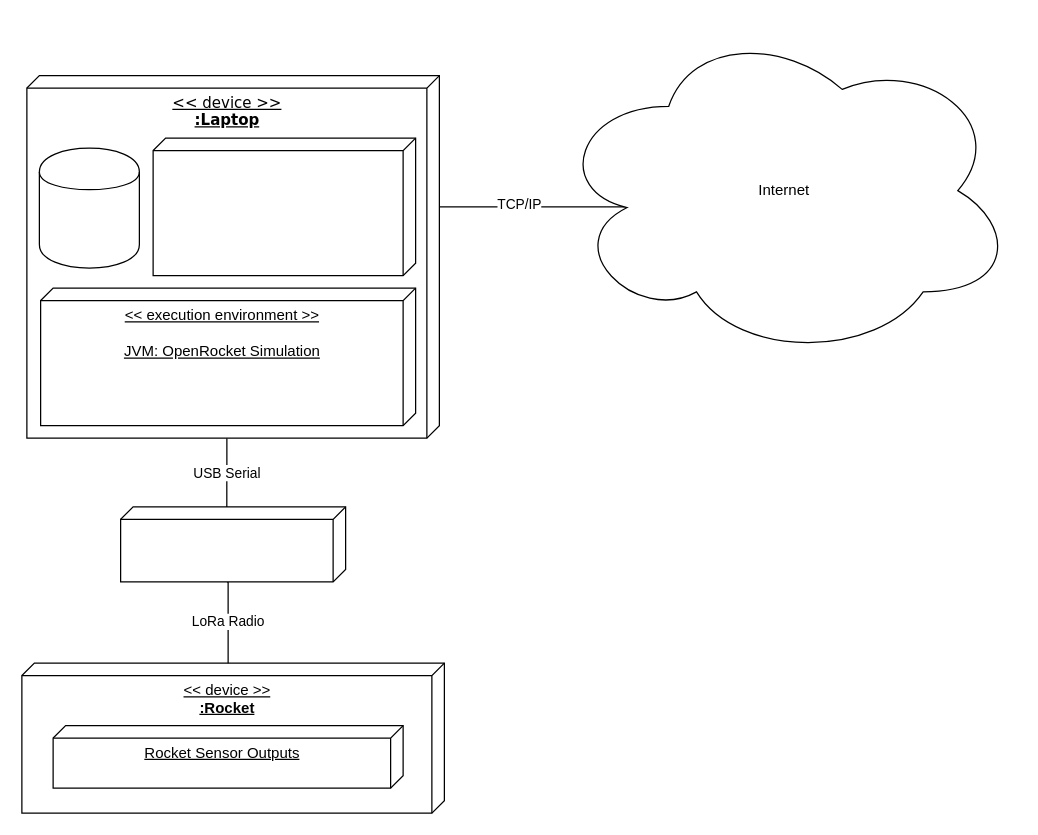
The diagram is 1038 pixels wide and 835 high, and some of its shapes have lost their labels. Here are the shapes that lost their labels. From the top down, the centre of each, then its label:
At [88,207]: "Launch Data".
At [284,206]: "<< execution environment >> JVM: Mission Control Software".
At [232,544]: "<< device >> :LoRa to USB interface".
